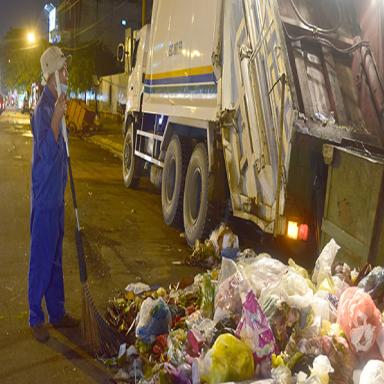plasticbag: (100, 222, 382, 382), (336, 283, 384, 350), (198, 329, 257, 383), (132, 297, 171, 337)
